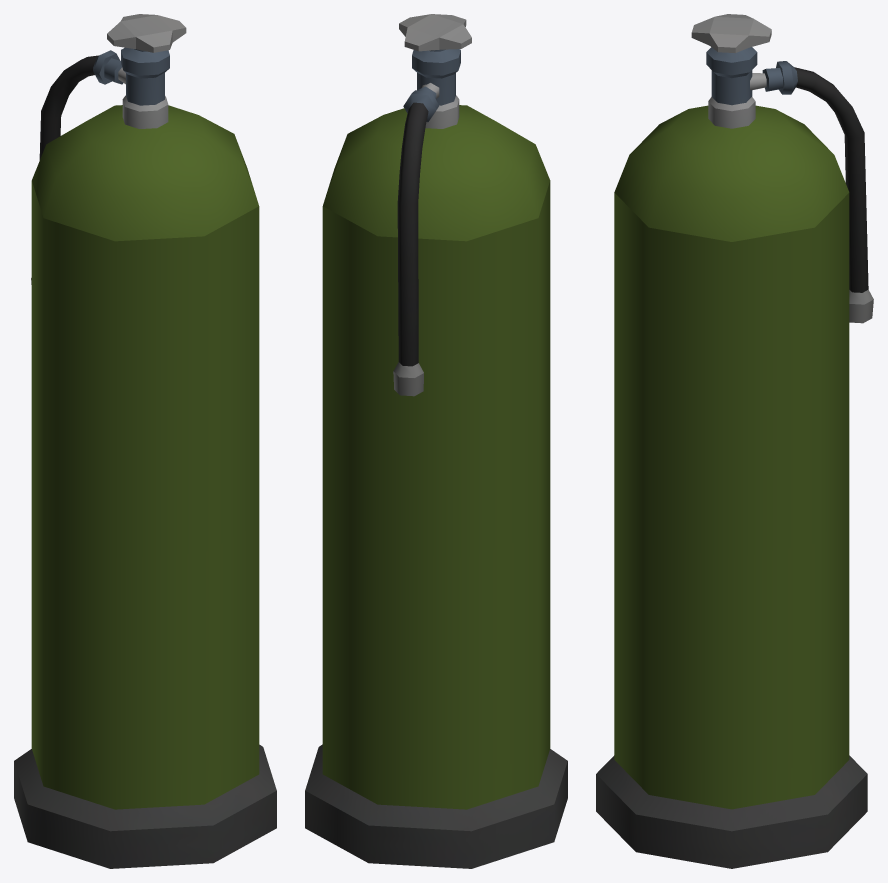
File: GasCylinder_1_4.glb
3 renders of one model, left to right at view 1: azimuth 30°, elevation 25°; view 2: azimuth 150°, elevation 25°; view 3: azimuth 270°, elevation 25°, orthographic.
Visible parts, largest first — view 1: GasCylinder_1_4; view 2: GasCylinder_1_4; view 3: GasCylinder_1_4.
Part boxes in pixels (<box>): GasCylinder_1_4: <box>14,14,276,868</box>; GasCylinder_1_4: <box>305,14,567,868</box>; GasCylinder_1_4: <box>596,14,873,868</box>.
Size of the model in its own units: 0.2747 by 0.8773 by 0.281.
Materials: 2 (2 with a texture image).
